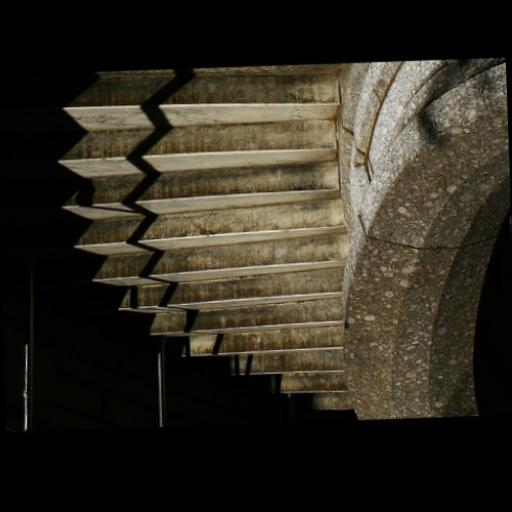stairs: (0, 63, 350, 408)
